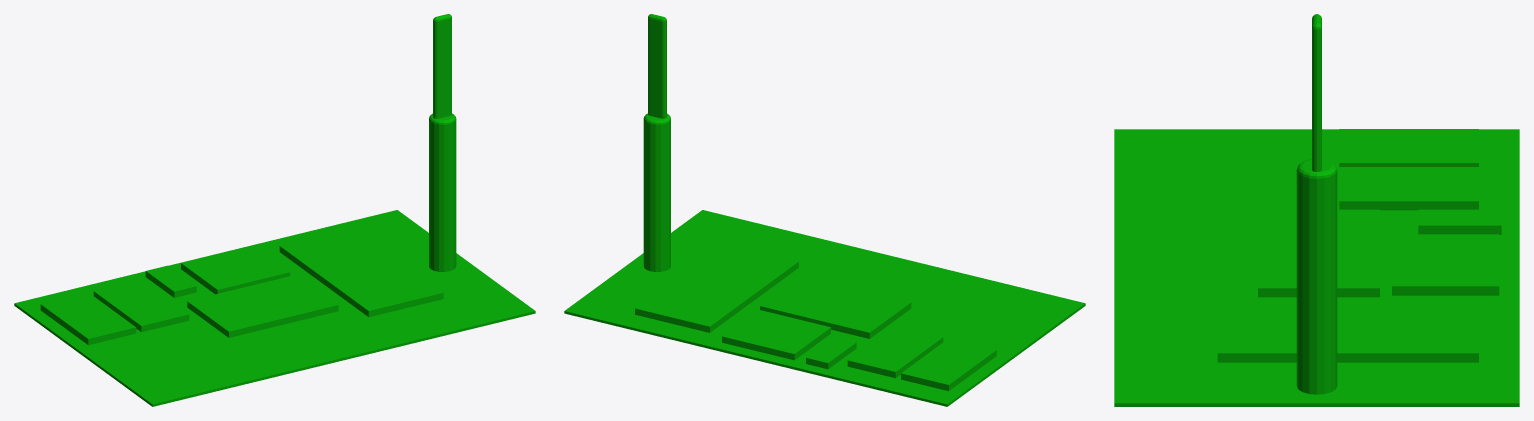
The model's file is sensorboard_small_green.obj.
The picture shows the model from 3 angles, left to right: view 1: azimuth 30°, elevation 25°; view 2: azimuth 150°, elevation 25°; view 3: azimuth 270°, elevation 25°; orthographic projection. The views are drawn at different scales.
Parts seen in each view (by area): view 1: sensorboard; view 2: sensorboard; view 3: sensorboard.
Boxes of the visible parts, x1=… form: sensorboard: x1=14, y1=14, x2=535, y2=406; sensorboard: x1=564, y1=14, x2=1085, y2=406; sensorboard: x1=1114, y1=14, x2=1519, y2=406.
Size of the model in its own units: 3.2 by 2.02 by 2.
